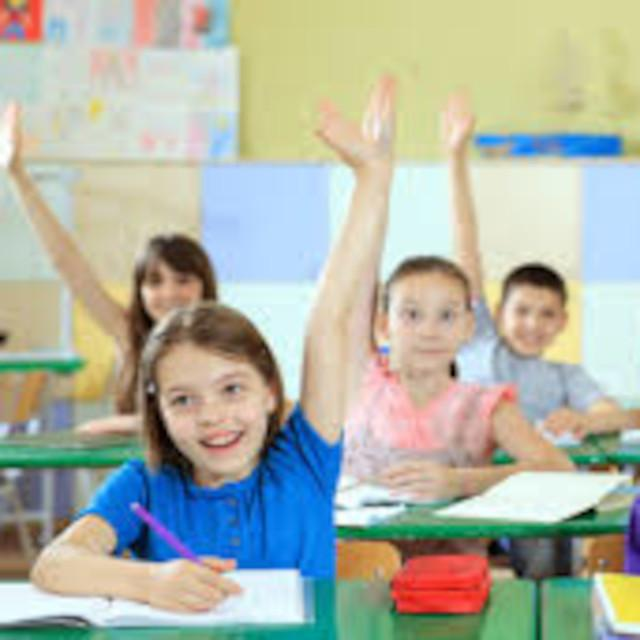kobieta: (40, 294, 352, 606), (4, 138, 242, 382), (368, 223, 526, 542)
mezczyzna: (451, 239, 635, 439)
